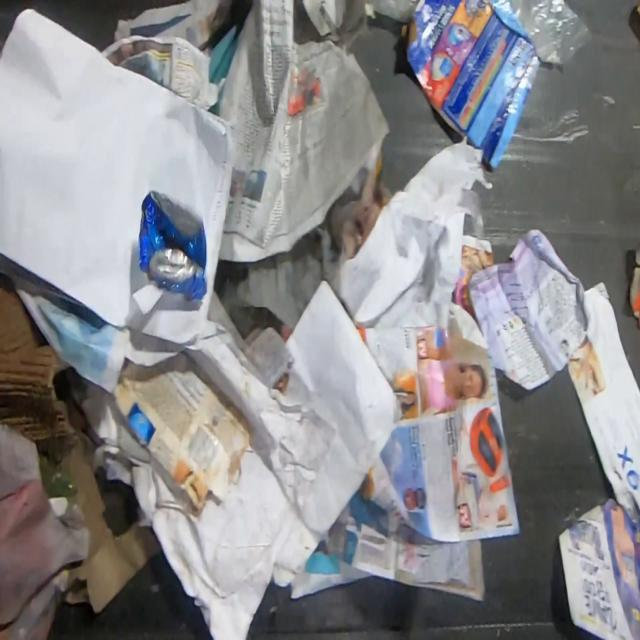cardboard: (0, 285, 163, 616), (399, 0, 542, 172), (112, 350, 256, 519)
metal: (137, 188, 208, 304)
soft_plastic: (510, 0, 592, 66), (362, 0, 420, 22)
